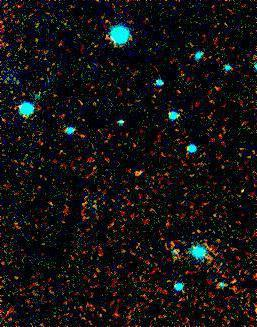star: (121, 159, 151, 189)
